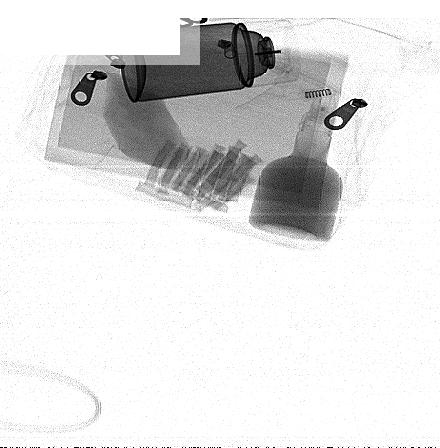Sprayer: (121, 21, 302, 103)
